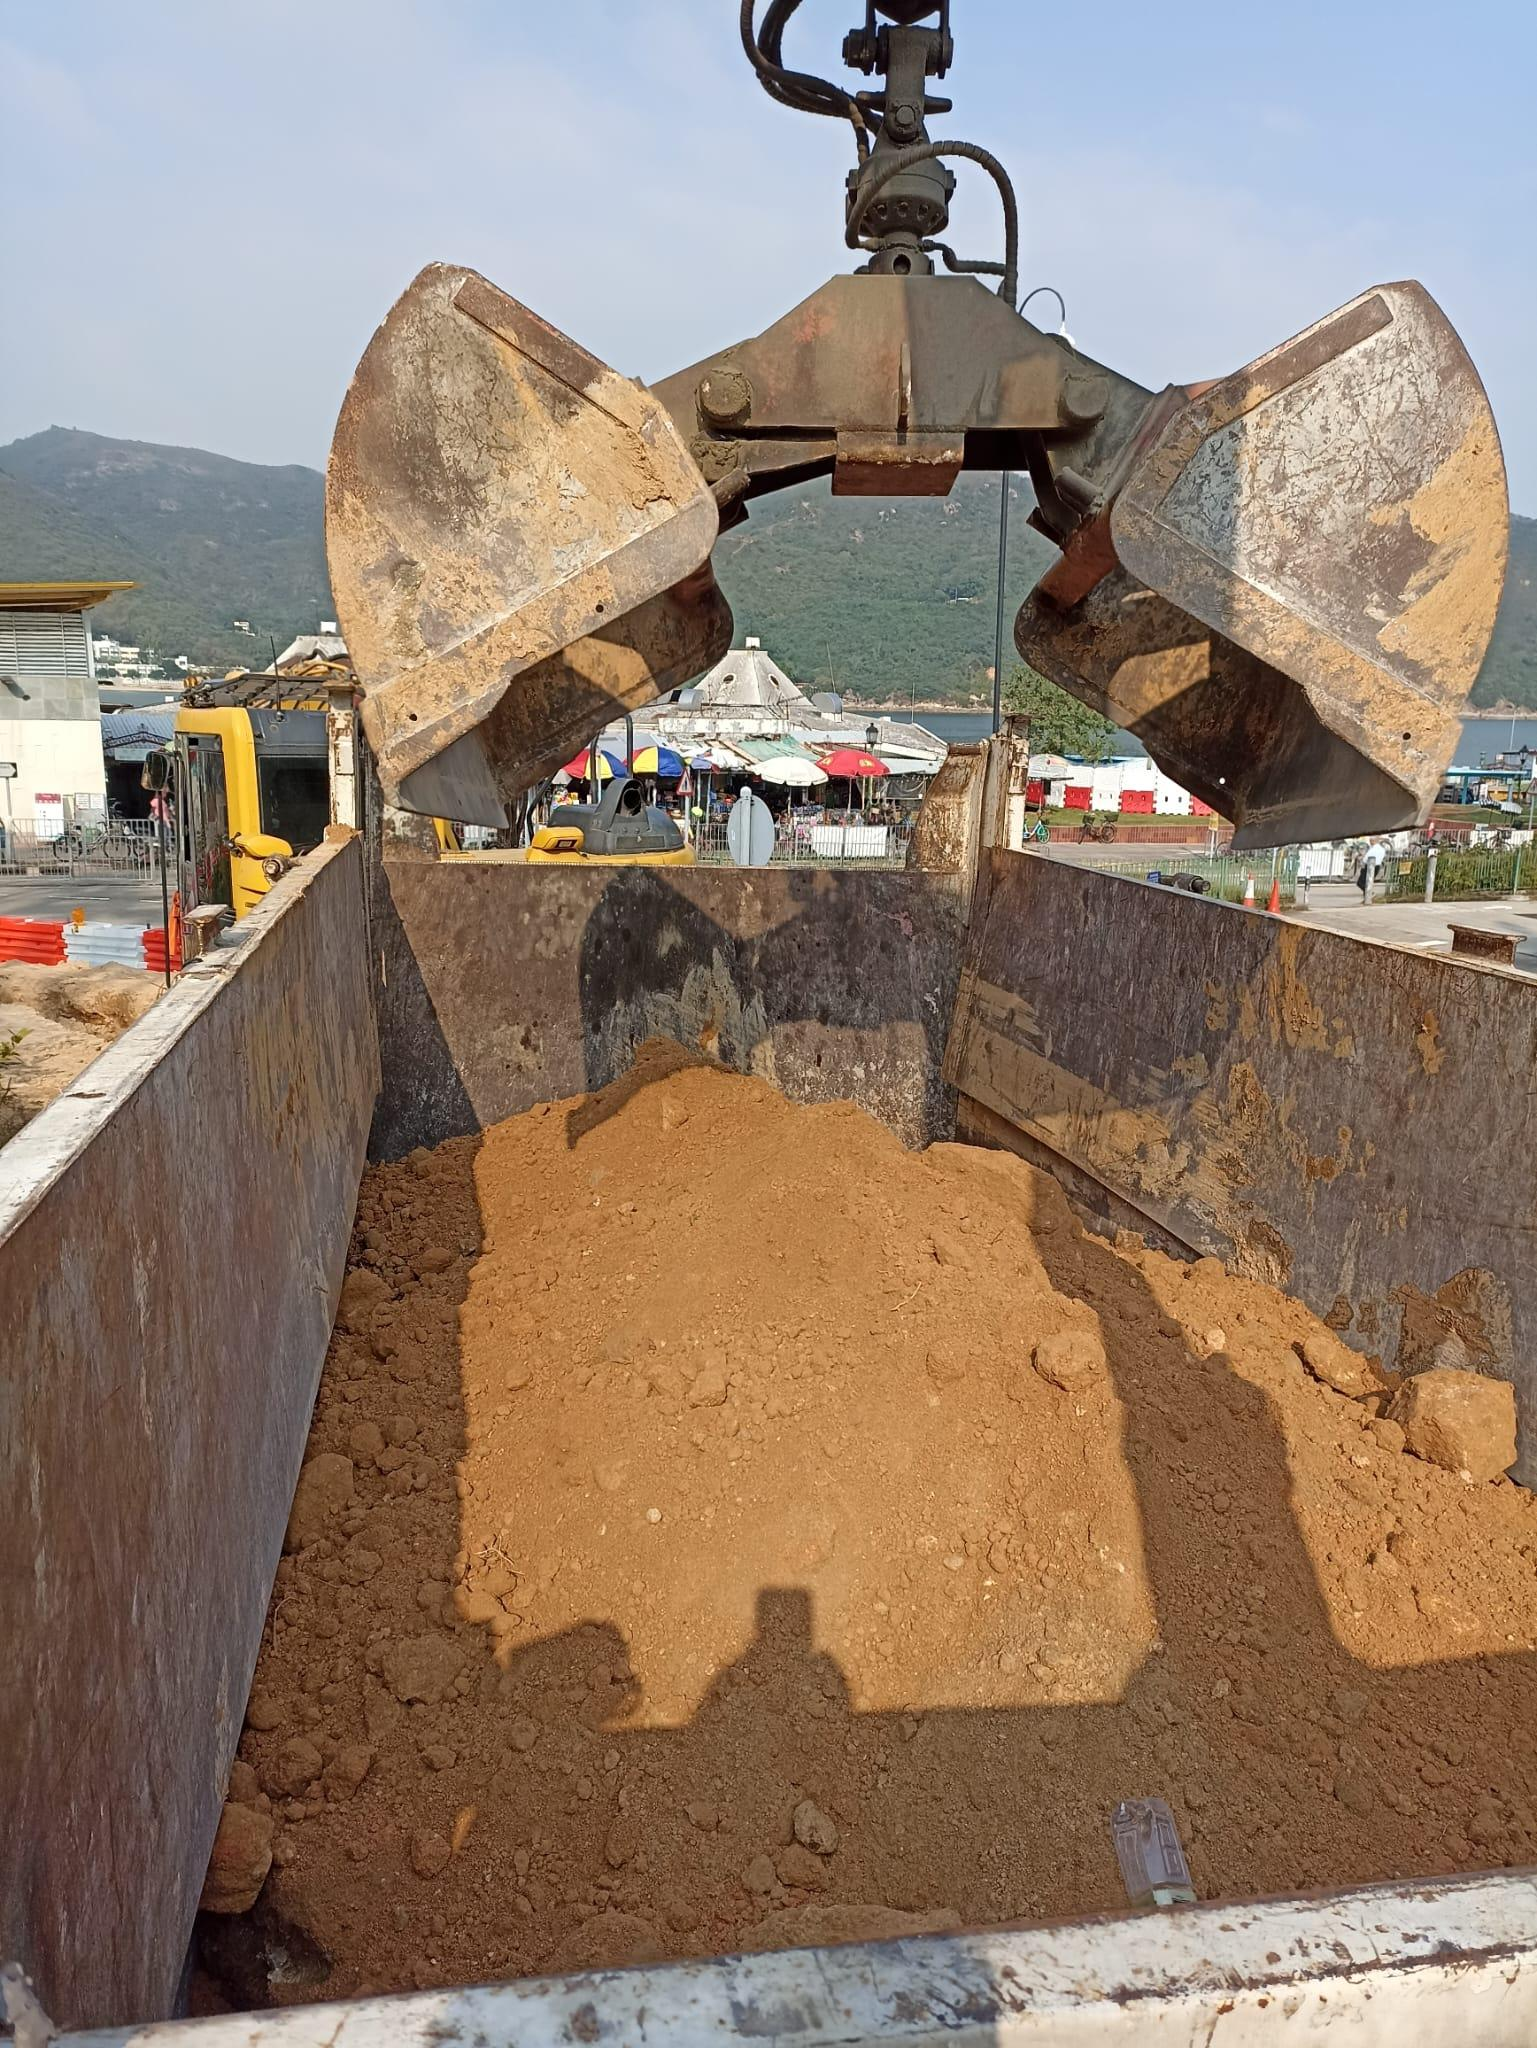dirt: (191, 1038, 1534, 2008)
stone: (450, 1043, 1161, 1732), (1395, 1364, 1518, 1483)
